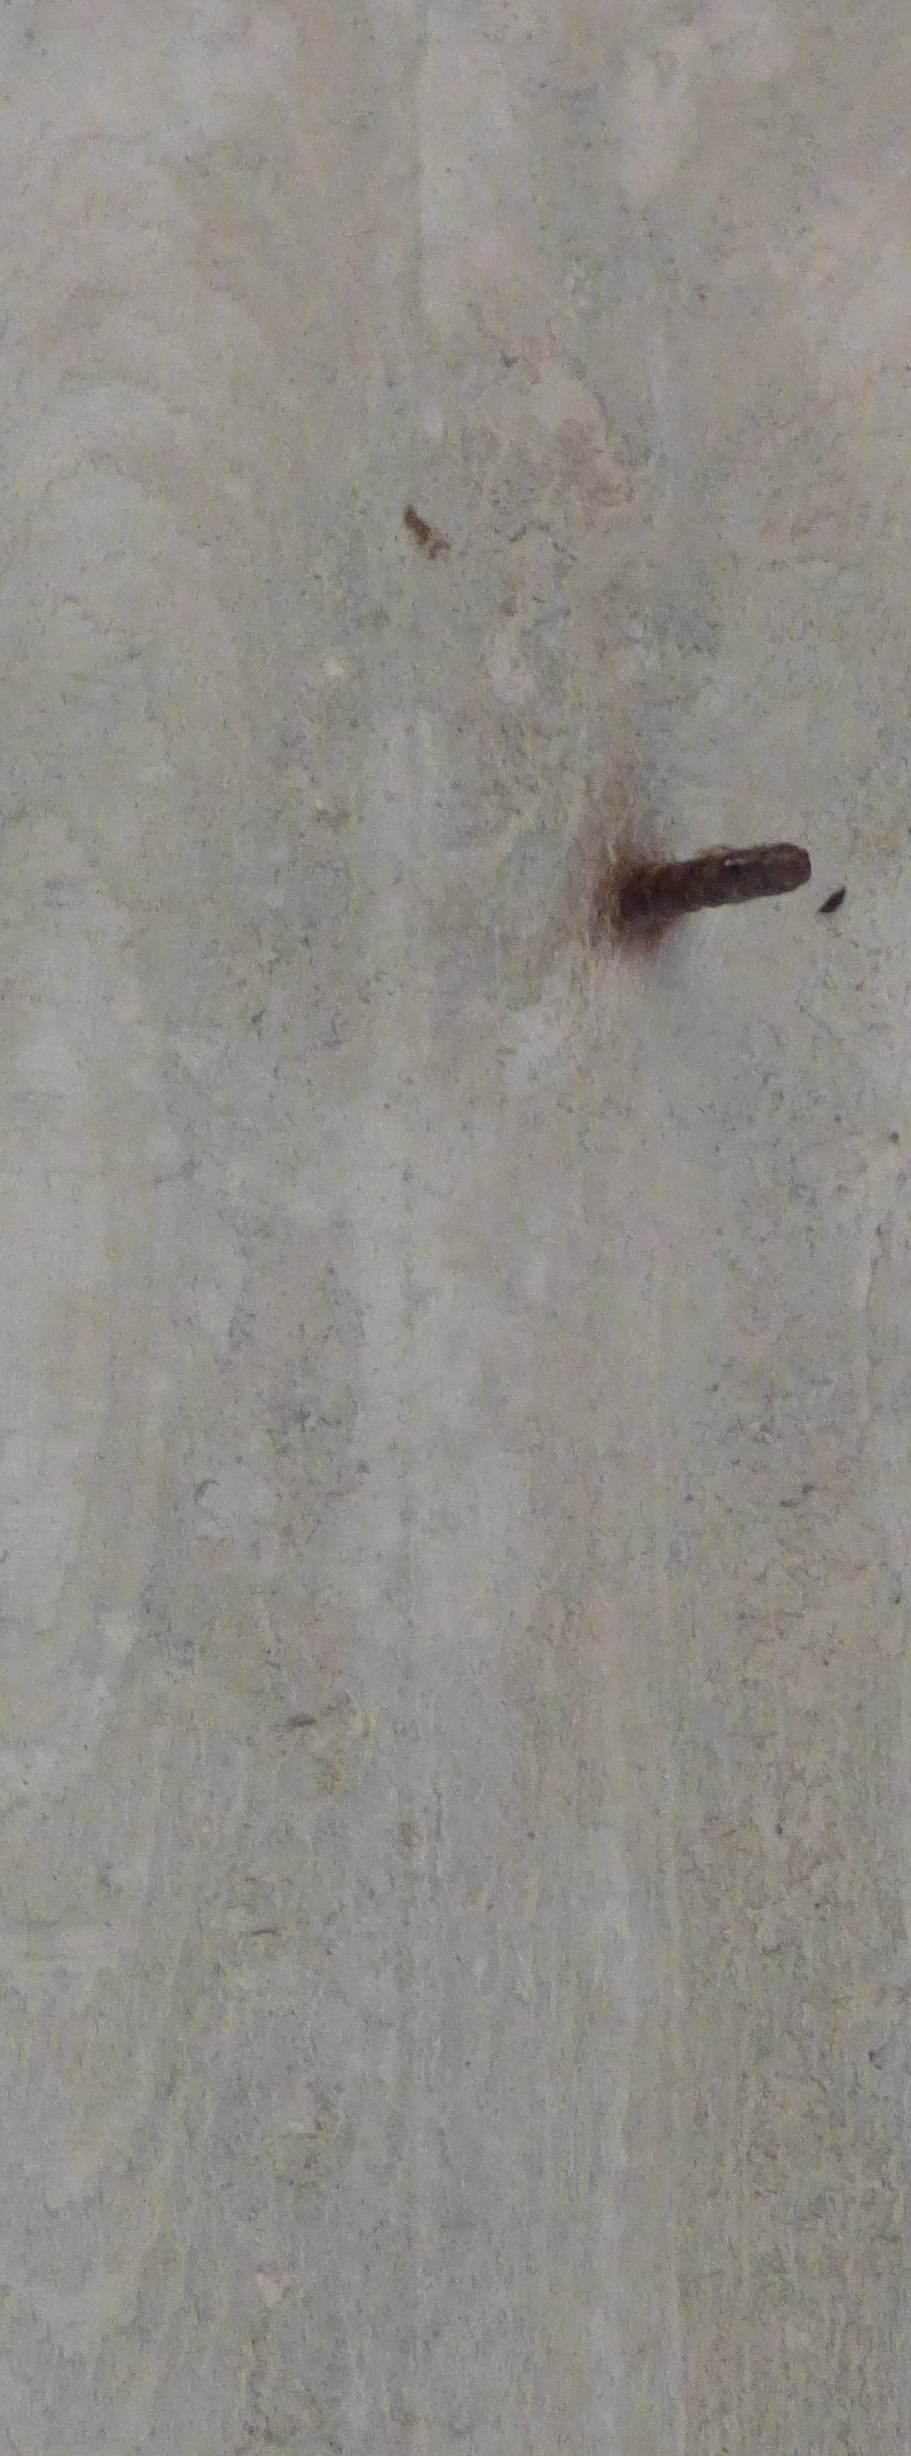Exposed reinforcement: (620, 840, 814, 923)
